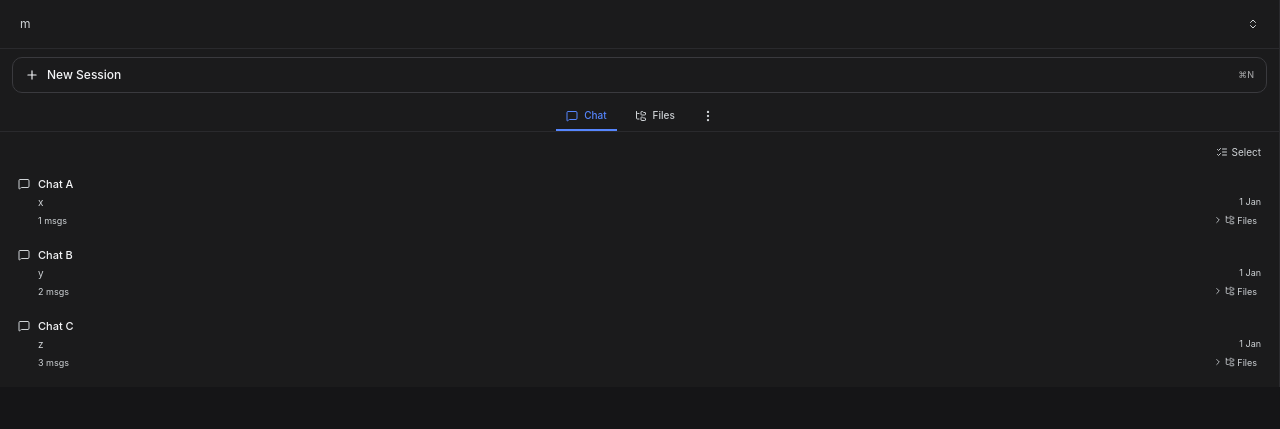
Scenario: LeftPanel multi-select › copy rejection surfaces the clipboard-blocked flash instead of throwing
Click the button with test id "select-chats" at (1238, 152), box [1210,140,1267,164]
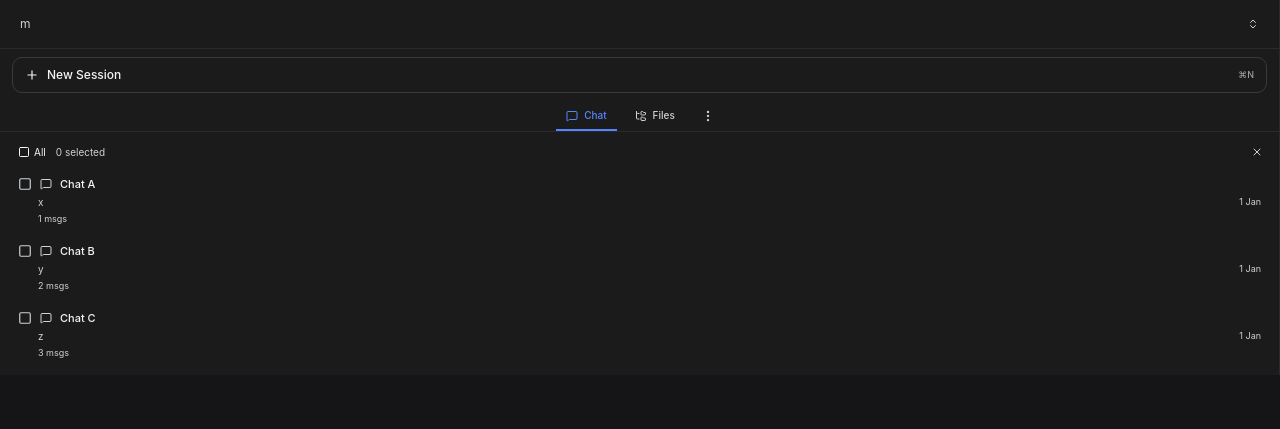
Click the button titled "Select all" at (32, 152), box [12,140,52,164]
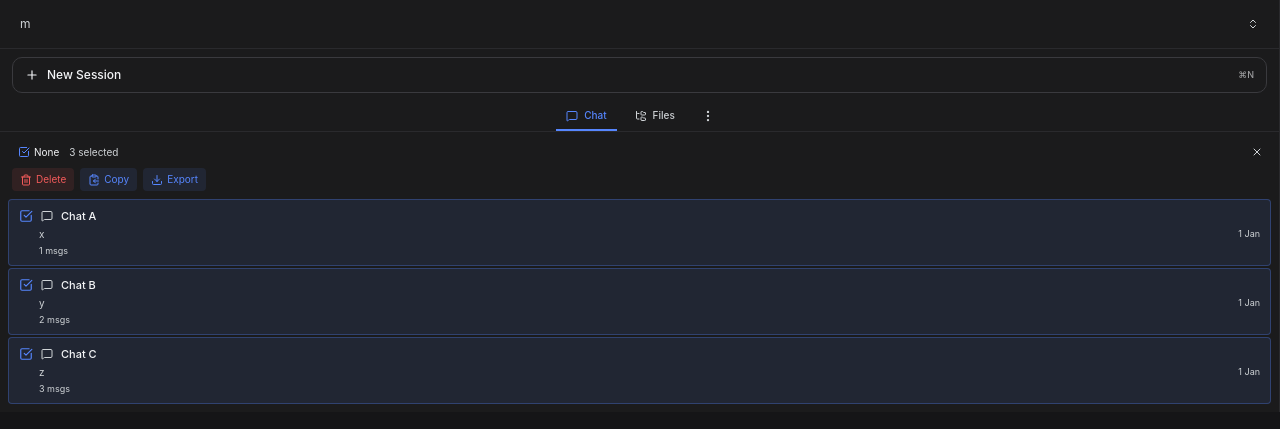
Click the button with test id "bulk-copy" at (109, 180), box [80,168,137,191]
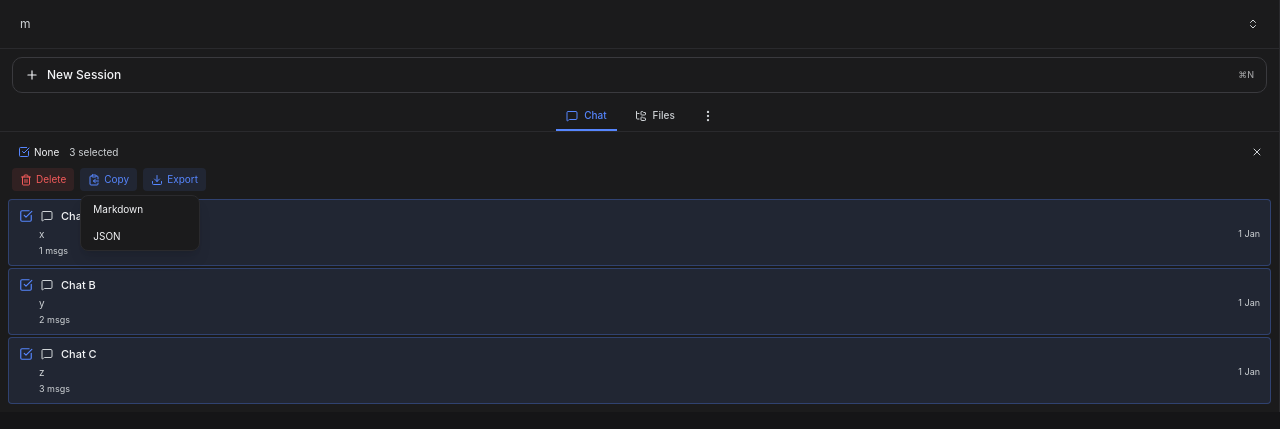
Click the button with test id "copy-json" at (140, 236), box [81,223,199,250]
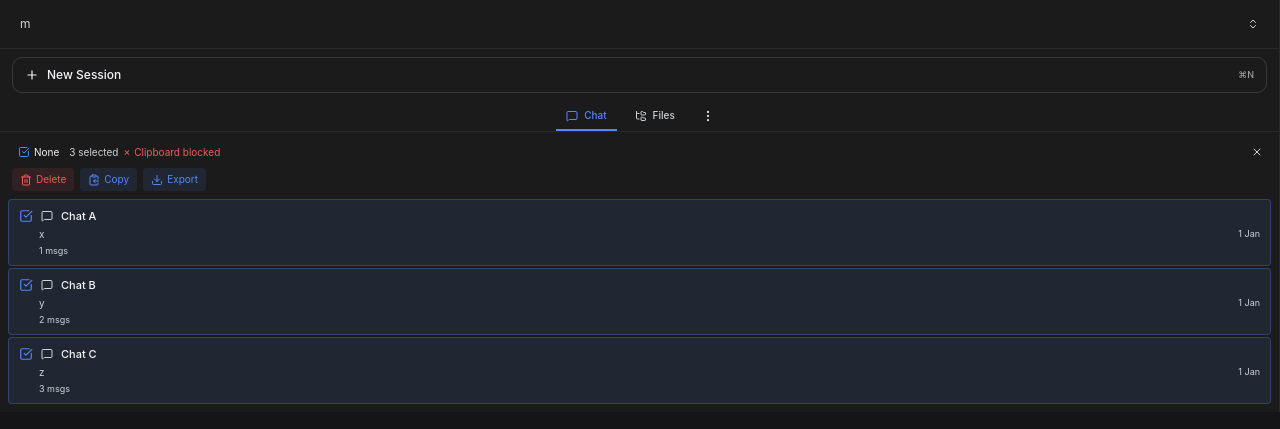
expect the button with test id "bulk-copy" is shown: met, box [80,168,137,191]
expect the text with test id "copy-feedback" reads "✗ Clipboard blocked": met, box [122,146,220,158]
